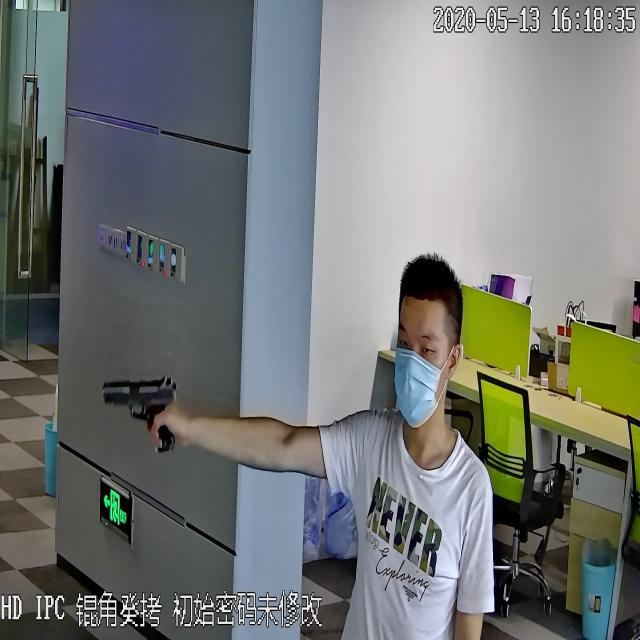gun: (94, 356, 180, 449)
